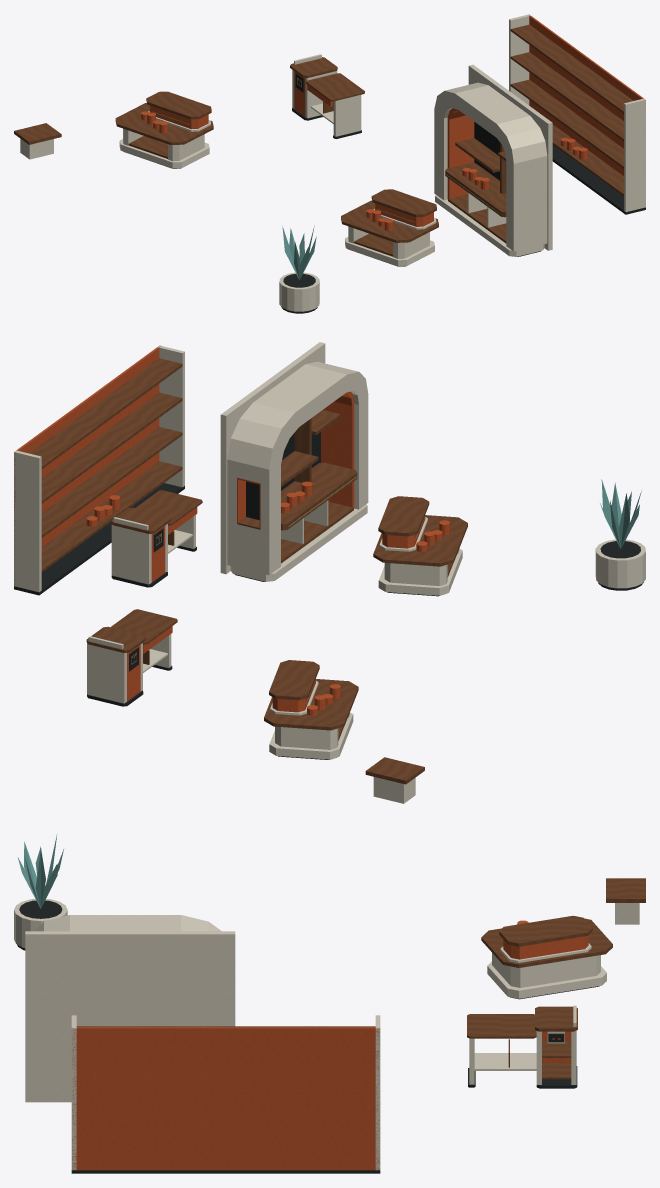
Rendered from SHOP_D09_S100_A106__fitout.glb.
3 renders of one model, top to bottom at view 1: azimuth 30°, elevation 25°; view 2: azimuth 150°, elevation 25°; view 3: azimuth 270°, elevation 25°, orthographic. The views are drawn at different scales.
Parts seen in each view (by area): view 1: SHOP_D09_S100_A106__fitout__ivory_enamel, SHOP_D09_S100_A106__fitout__warm_walnut, SHOP_D09_S100_A106__fitout__retail_terracotta_enamel, SHOP_D09_S100_A106__fitout__dark_rubber, SHOP_D09_S100_A106__fitout__quiet_teal; view 2: SHOP_D09_S100_A106__fitout__ivory_enamel, SHOP_D09_S100_A106__fitout__warm_walnut, SHOP_D09_S100_A106__fitout__retail_terracotta_enamel, SHOP_D09_S100_A106__fitout__dark_rubber, SHOP_D09_S100_A106__fitout__quiet_teal; view 3: SHOP_D09_S100_A106__fitout__retail_terracotta_enamel, SHOP_D09_S100_A106__fitout__ivory_enamel, SHOP_D09_S100_A106__fitout__warm_walnut, SHOP_D09_S100_A106__fitout__dark_rubber, SHOP_D09_S100_A106__fitout__quiet_teal.
Boxes of the visible parts, x1,y1,x2,y2 form: SHOP_D09_S100_A106__fitout__ivory_enamel: (20,14,645,311); SHOP_D09_S100_A106__fitout__warm_walnut: (14,24,633,256); SHOP_D09_S100_A106__fitout__retail_terracotta_enamel: (141,14,645,231); SHOP_D09_S100_A106__fitout__dark_rubber: (124,73,645,313); SHOP_D09_S100_A106__fitout__quiet_teal: (282,225,316,279); SHOP_D09_S100_A106__fitout__ivory_enamel: (14,342,645,803); SHOP_D09_S100_A106__fitout__warm_walnut: (29,358,467,784); SHOP_D09_S100_A106__fitout__retail_terracotta_enamel: (14,345,450,715); SHOP_D09_S100_A106__fitout__dark_rubber: (14,432,643,759); SHOP_D09_S100_A106__fitout__quiet_teal: (600,479,641,548); SHOP_D09_S100_A106__fitout__retail_terracotta_enamel: (72,920,588,1170); SHOP_D09_S100_A106__fitout__ivory_enamel: (14,899,639,1170); SHOP_D09_S100_A106__fitout__warm_walnut: (76,878,645,1079); SHOP_D09_S100_A106__fitout__dark_rubber: (17,900,599,1173); SHOP_D09_S100_A106__fitout__quiet_teal: (17,834,63,908).
Size of the model in its own units: 10.25 by 3 by 10.24.
6 materials, 5 textured.
